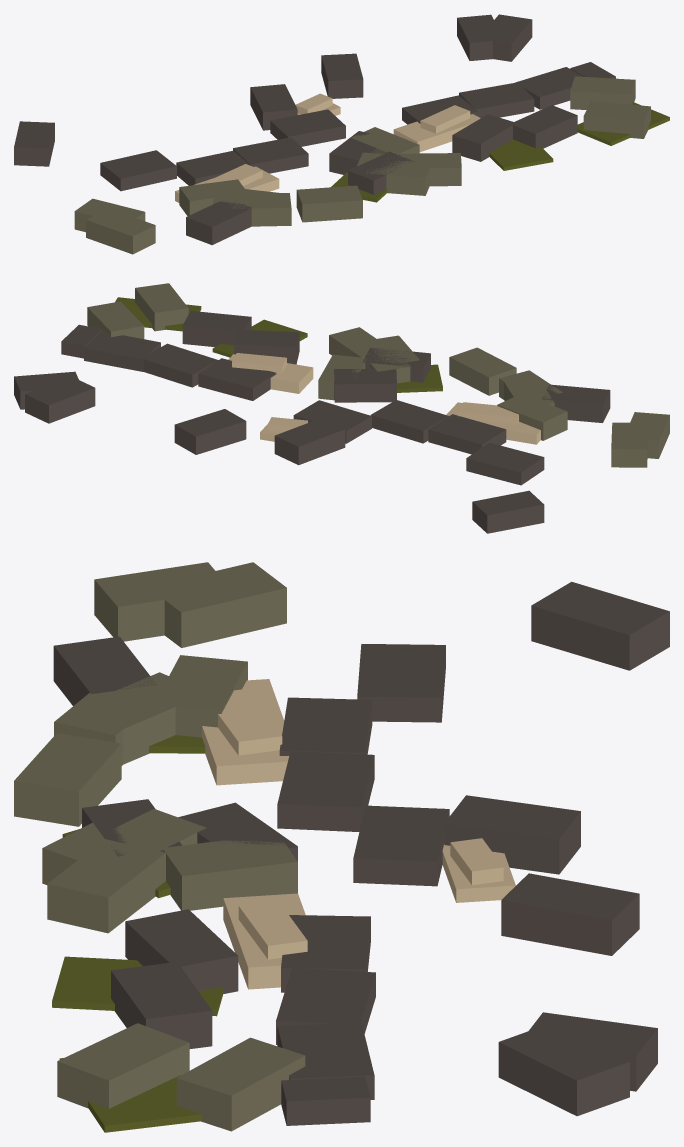
Rendered from SM_MuroSacos_v4_Red_e3_Brecha_LOD0.fbx.
3 renders of one model, top to bottom at view 1: azimuth 30°, elevation 25°; view 2: azimuth 150°, elevation 25°; view 3: azimuth 270°, elevation 25°, orthographic. The views are drawn at different scales.
Visible parts, largest first — view 1: SM_bloques.muro_sacos_estados_v19_LOD0; view 2: SM_bloques.muro_sacos_estados_v19_LOD0; view 3: SM_bloques.muro_sacos_estados_v19_LOD0.
Part boxes in pixels (<box>): SM_bloques.muro_sacos_estados_v19_LOD0: <box>14,14,669,254</box>; SM_bloques.muro_sacos_estados_v19_LOD0: <box>14,283,669,533</box>; SM_bloques.muro_sacos_estados_v19_LOD0: <box>14,562,669,1132</box>.
Bounding box in the file's own units: 8.39 × 0.26 × 4.34.
